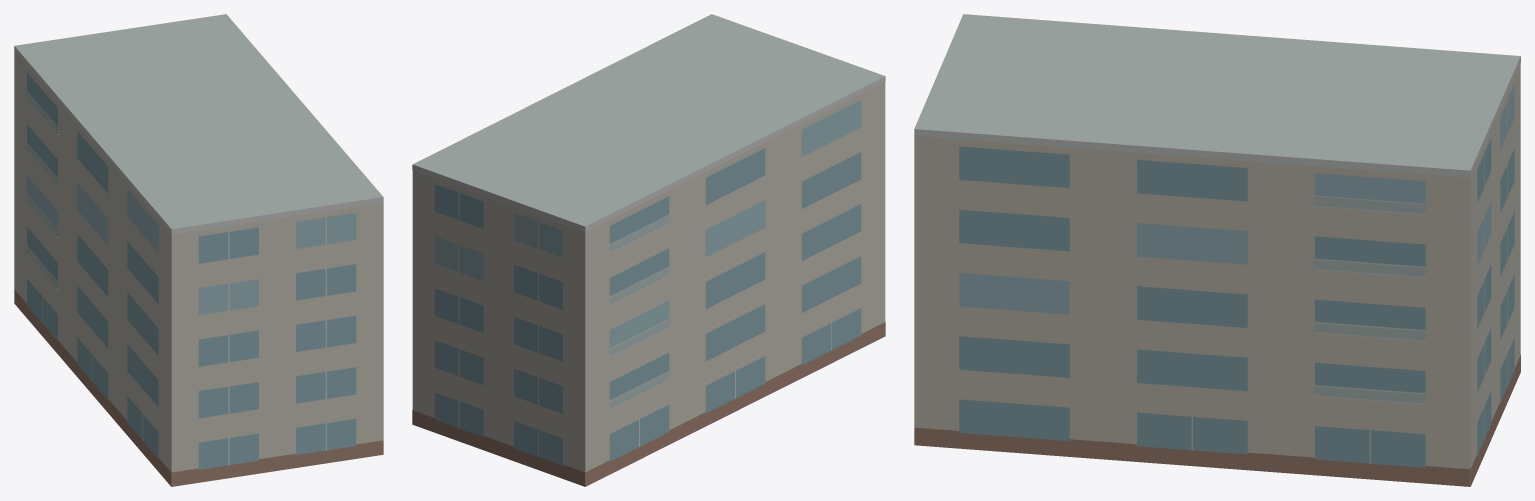
The model's file is survey-upis-32948249.glb.
The picture shows the model from 3 angles, left to right: view 1: azimuth 30°, elevation 25°; view 2: azimuth 150°, elevation 25°; view 3: azimuth 270°, elevation 25°; orthographic projection. The views are drawn at different scales.
Parts seen in each view (by area): view 1: survey-upis-32948249.tmp; view 2: survey-upis-32948249.tmp; view 3: survey-upis-32948249.tmp.
Part boxes in pixels (bbox=[...]): survey-upis-32948249.tmp: bbox=[14, 14, 383, 486]; survey-upis-32948249.tmp: bbox=[412, 14, 885, 486]; survey-upis-32948249.tmp: bbox=[914, 14, 1520, 486].
Bounding box in the file's own units: 11.49 × 10.8 × 18.79.
